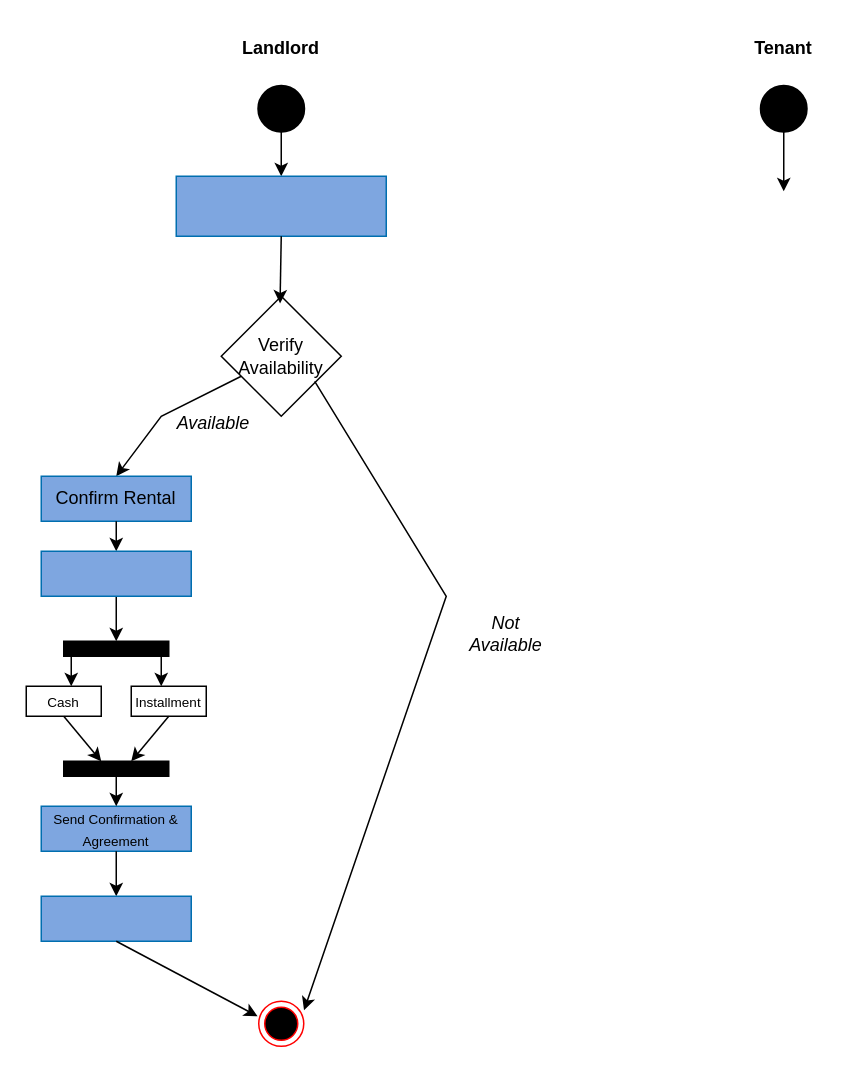
Image size: 855x1073. Some labels were removed from this diagram. Here are the shapes that lost their labels. From the top down, the centre of each, then its label:
pixel 280 205: Receive Rental Request
pixel 115 573: Process Payment
pixel 115 918: Hand Over Keys
